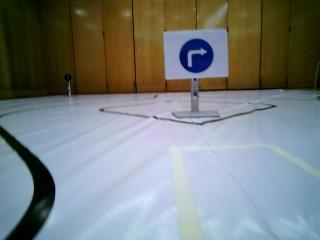right: (163, 32, 224, 74)
